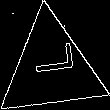L_W: (26, 50, 76, 87)
